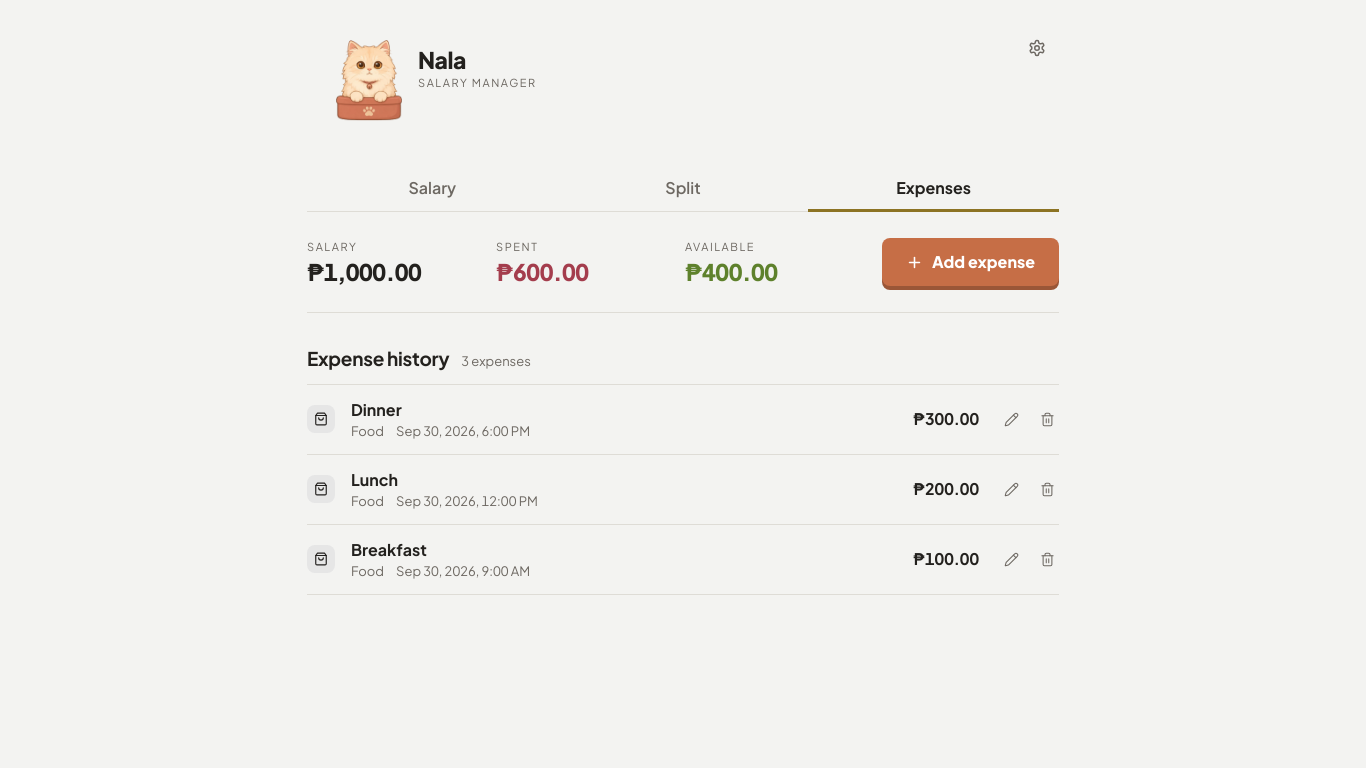
Scenario: expense tracking in App › deletes one expense after confirming
The image size is (1366, 768).
Expected: the text "Lunch" is shown, top-left (351, 469), bottom-right (398, 490)
Click the button named "delete lunch" at (1047, 489), box top-left (1025, 467), bottom-right (1069, 511)
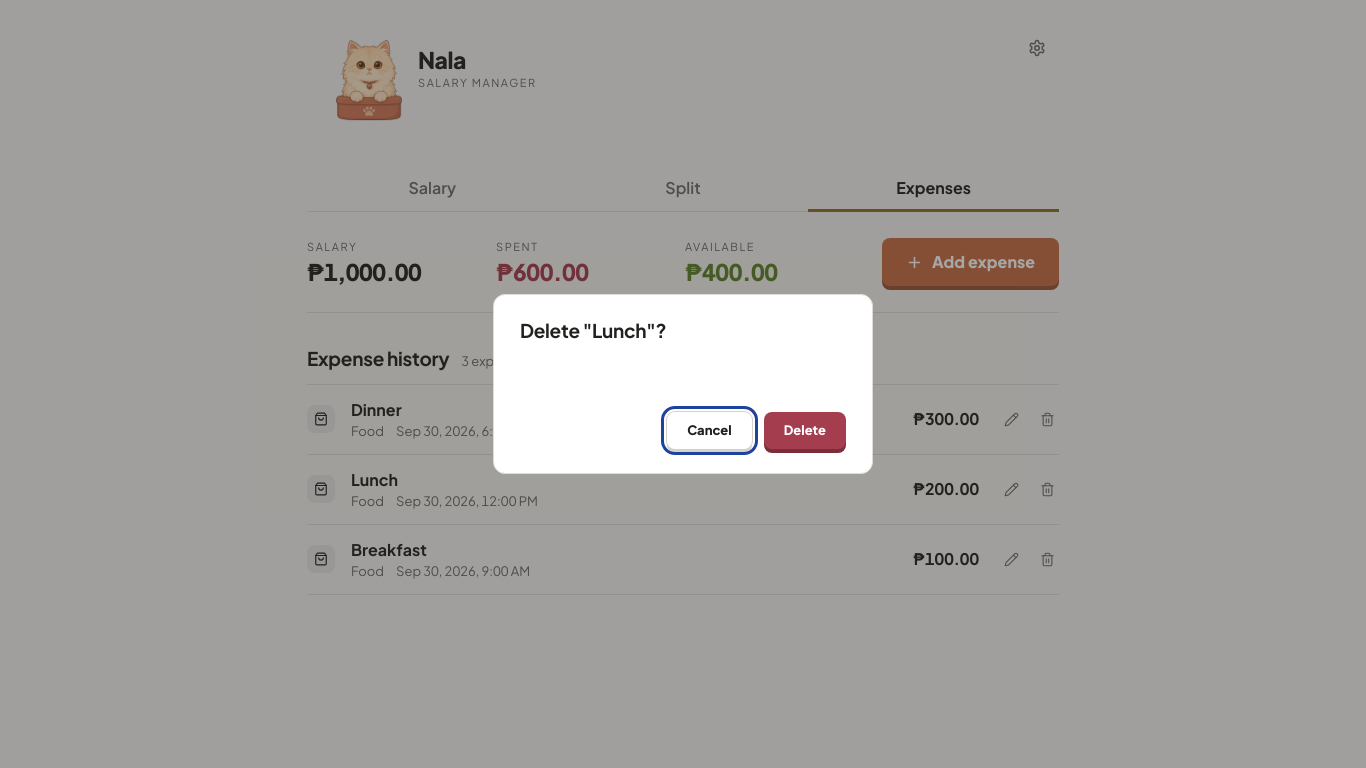
Click the button "Delete" at (805, 431), box top-left (764, 412), bottom-right (846, 449)
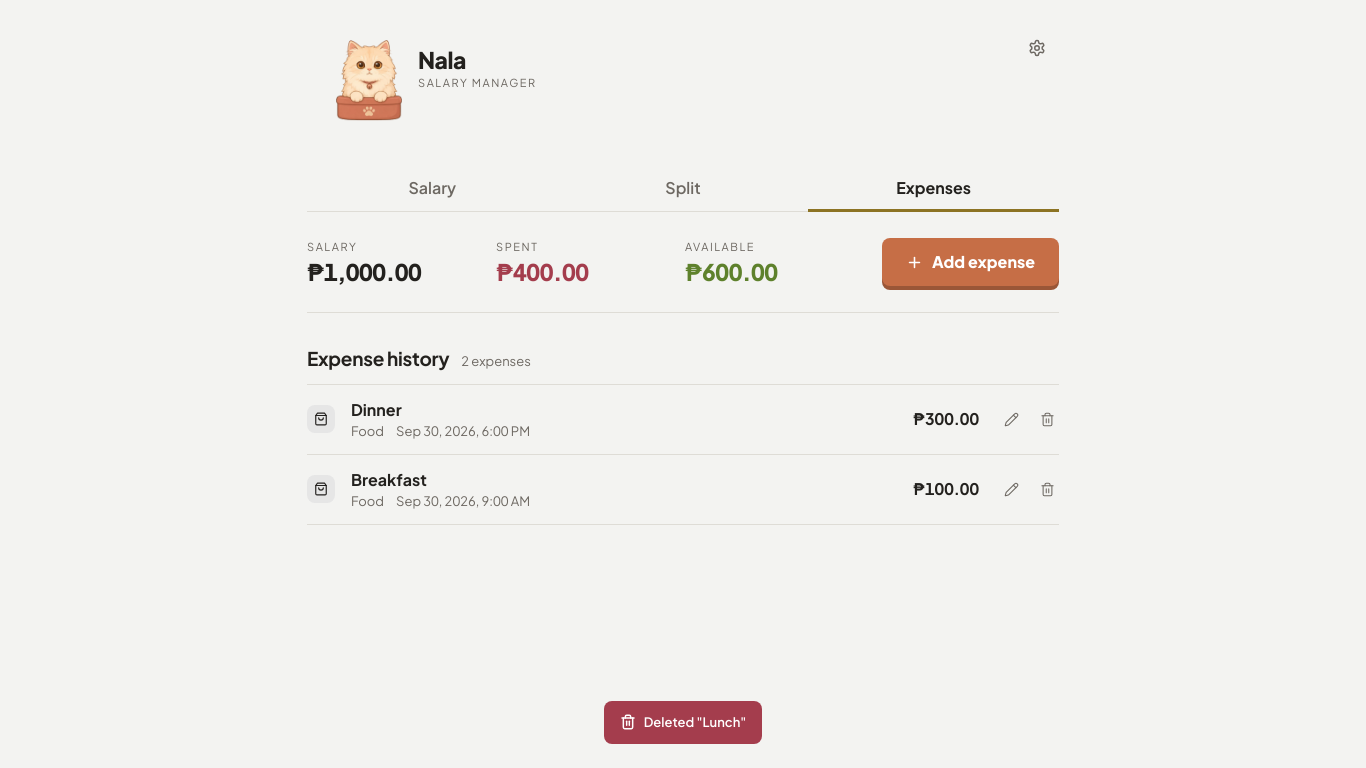
Expected: the text "undo" is gone
